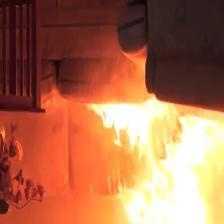fire: (95, 83, 224, 224)
